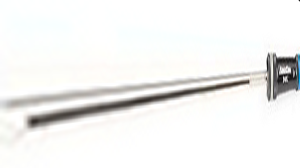Screwdriver: (8, 49, 300, 136)
